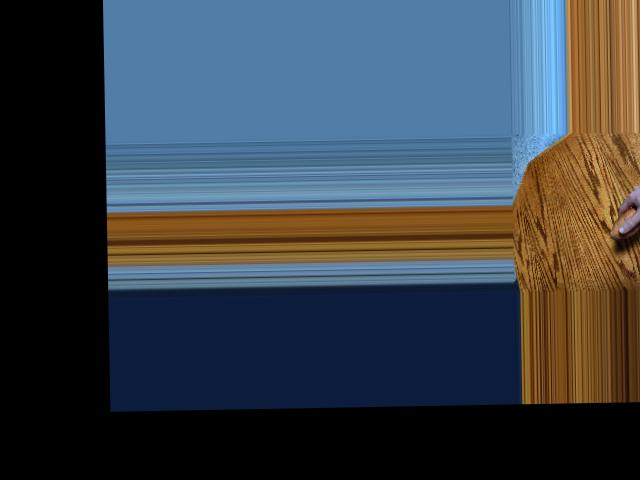sweet_potato: (607, 176, 640, 240)
